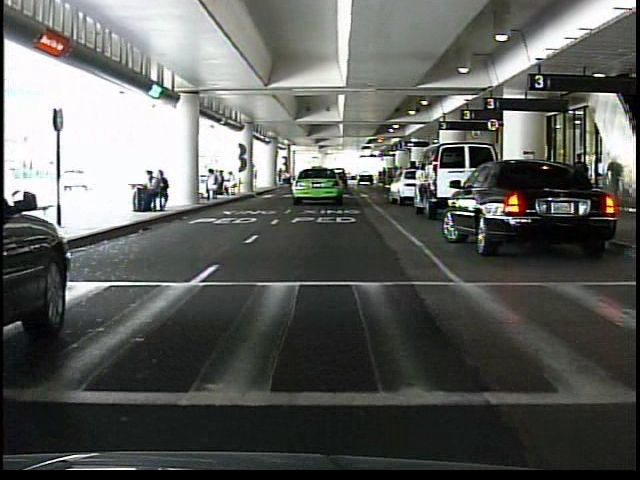person: (568, 148, 593, 212)
